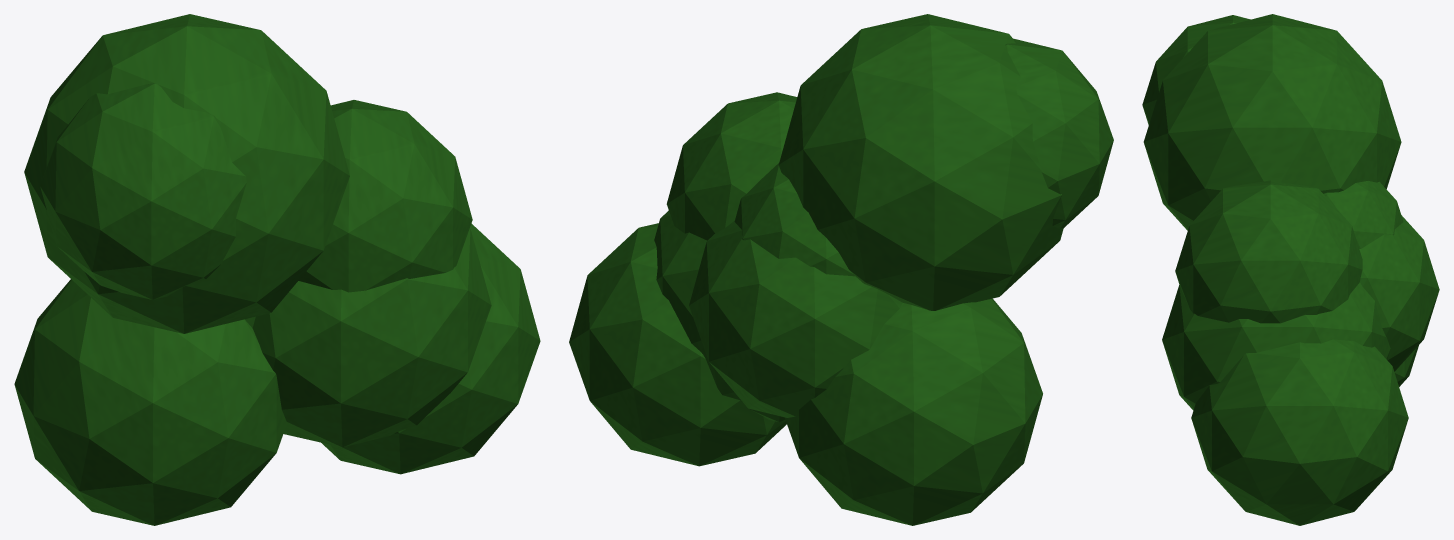
The model's file is krzak_r0_04.glb.
3 renders of one model, left to right at view 1: azimuth 30°, elevation 25°; view 2: azimuth 150°, elevation 25°; view 3: azimuth 270°, elevation 25°, orthographic. The views are drawn at different scales.
Visible parts, largest first — view 1: leaf_3, leaf_0, leaf_6, leaf_4, leaf_5, leaf_1; view 2: leaf_0, leaf_3, leaf_1, leaf_7, leaf_6, leaf_5, leaf_2, leaf_4; view 3: leaf_0, leaf_1, leaf_5, leaf_4, leaf_7, leaf_2, leaf_6, leaf_3.
Boxes of the visible parts, x1=… form: leaf_3: x1=14, y1=279, x2=287, y2=525; leaf_0: x1=24, y1=14, x2=349, y2=333; leaf_6: x1=40, y1=83, x2=246, y2=299; leaf_4: x1=252, y1=228, x2=491, y2=447; leaf_5: x1=298, y1=100, x2=472, y2=292; leaf_1: x1=321, y1=223, x2=540, y2=474; leaf_0: x1=778, y1=14, x2=1063, y2=310; leaf_3: x1=784, y1=298, x2=1042, y2=525; leaf_1: x1=569, y1=223, x2=786, y2=466; leaf_7: x1=689, y1=221, x2=902, y2=417; leaf_6: x1=1005, y1=38, x2=1113, y2=228; leaf_5: x1=666, y1=92, x2=797, y2=240; leaf_2: x1=734, y1=163, x2=854, y2=276; leaf_4: x1=654, y1=210, x2=785, y2=422; leaf_0: x1=1143, y1=14, x2=1401, y2=230; leaf_1: x1=1191, y1=339, x2=1408, y2=525; leaf_5: x1=1175, y1=180, x2=1362, y2=323; leaf_4: x1=1162, y1=282, x2=1390, y2=410; leaf_7: x1=1359, y1=215, x2=1439, y2=371; leaf_2: x1=1323, y1=181, x2=1403, y2=248; leaf_6: x1=1142, y1=15, x2=1250, y2=124; leaf_3: x1=1394, y1=345, x2=1418, y2=386.
Size of the model in its own units: 1.7 by 1.62 by 1.09.
Materials: 1 (1 with a texture image).
